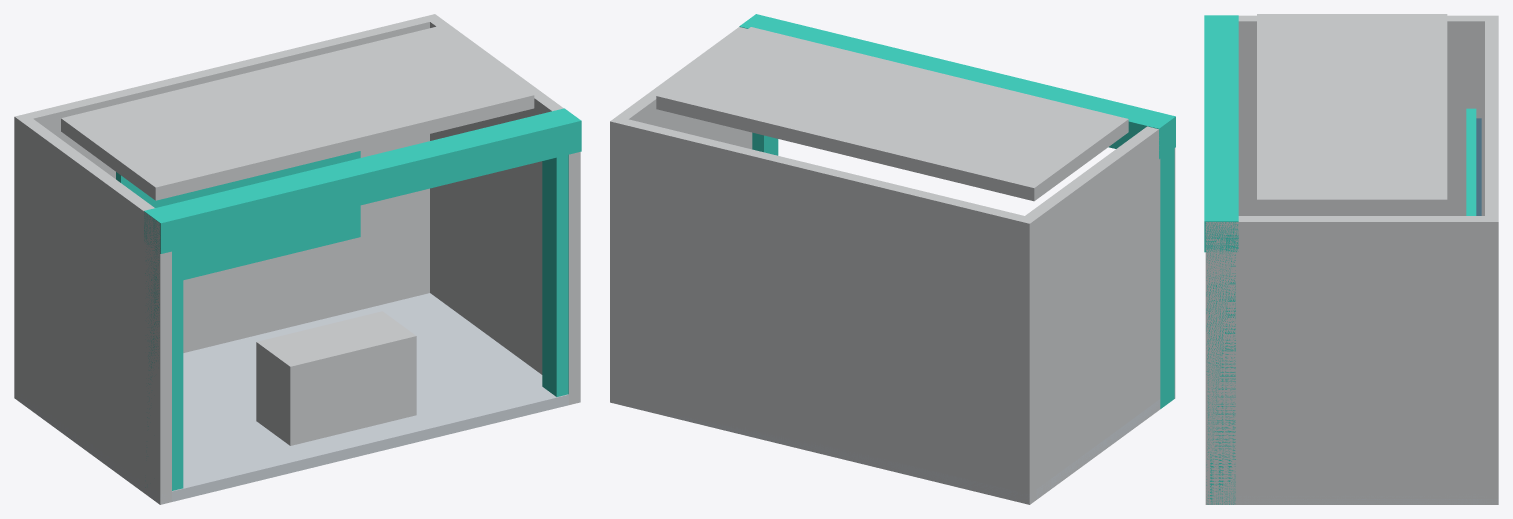
The picture shows the model from 3 angles, left to right: view 1: azimuth 30°, elevation 25°; view 2: azimuth 150°, elevation 25°; view 3: azimuth 270°, elevation 25°; orthographic projection.
Visible parts, largest first — view 1: Exhibition Booth Concept; view 2: Exhibition Booth Concept; view 3: Exhibition Booth Concept.
Part boxes in pixels (x1=…): Exhibition Booth Concept: x1=14, y1=14, x2=581, y2=504; Exhibition Booth Concept: x1=610, y1=14, x2=1175, y2=504; Exhibition Booth Concept: x1=1204, y1=14, x2=1498, y2=504.
Bounding box in the file's own units: 5 × 3.34 × 3.01.
